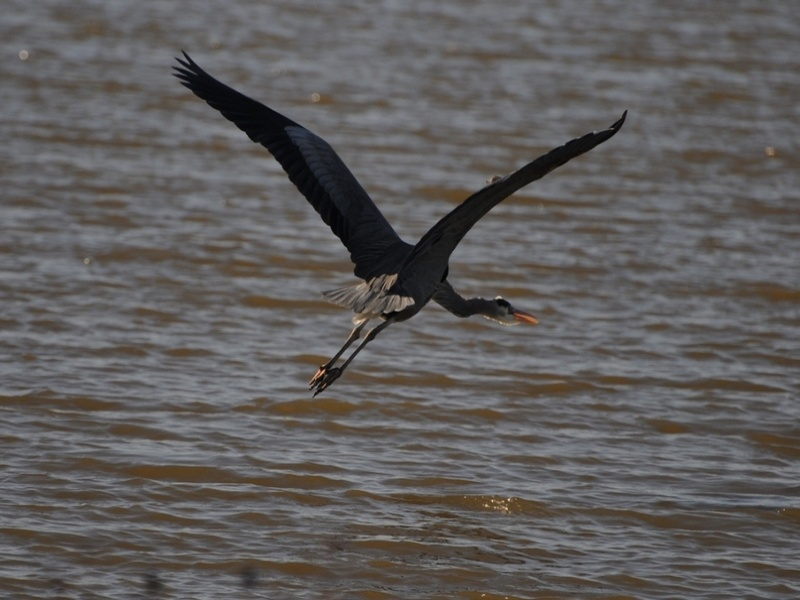heron: (165, 41, 637, 400)
